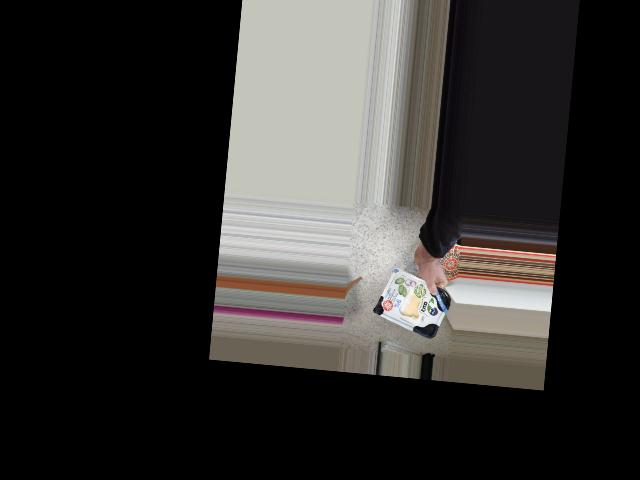cheese: (380, 273, 444, 326)
